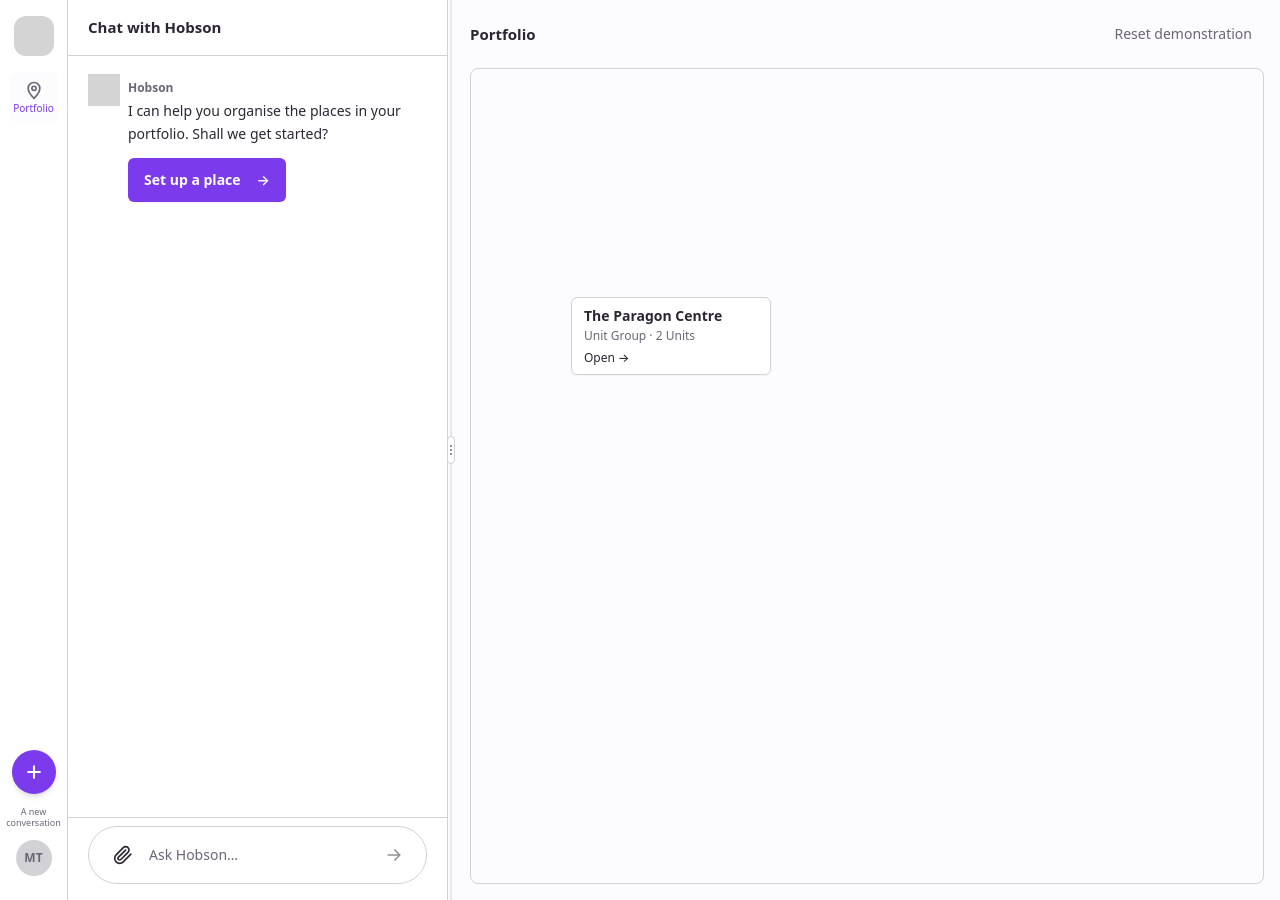
Test case: The Paragon Centre in place › lists two Units with the summary 2 Units · 1 Residential · 1 Commercial
What coordinates should you click on to do the following:
click the button with aria-label "Open The Paragon Centre"
I would click on:
 (671, 336)
Its box is [571,297,771,375].
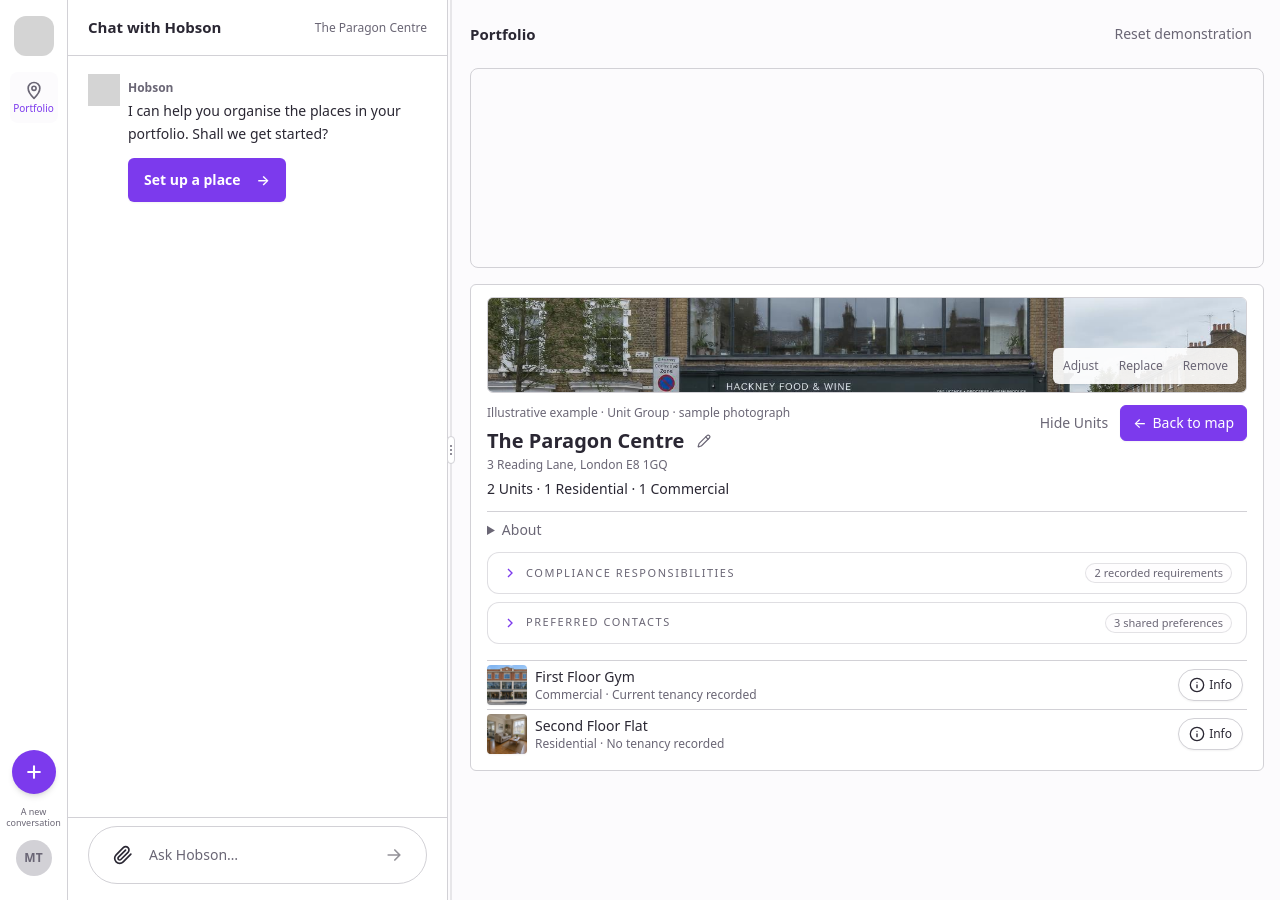
Expected: the text "2 Units · 1 Residential · 1 Commercial" is shown, [487,479,729,498]
Expected: the text "Commercial · Current tenancy recorded" is shown, [535,686,757,702]
Expected: the text "Residential · No tenancy recorded" is shown, [535,736,724,752]
